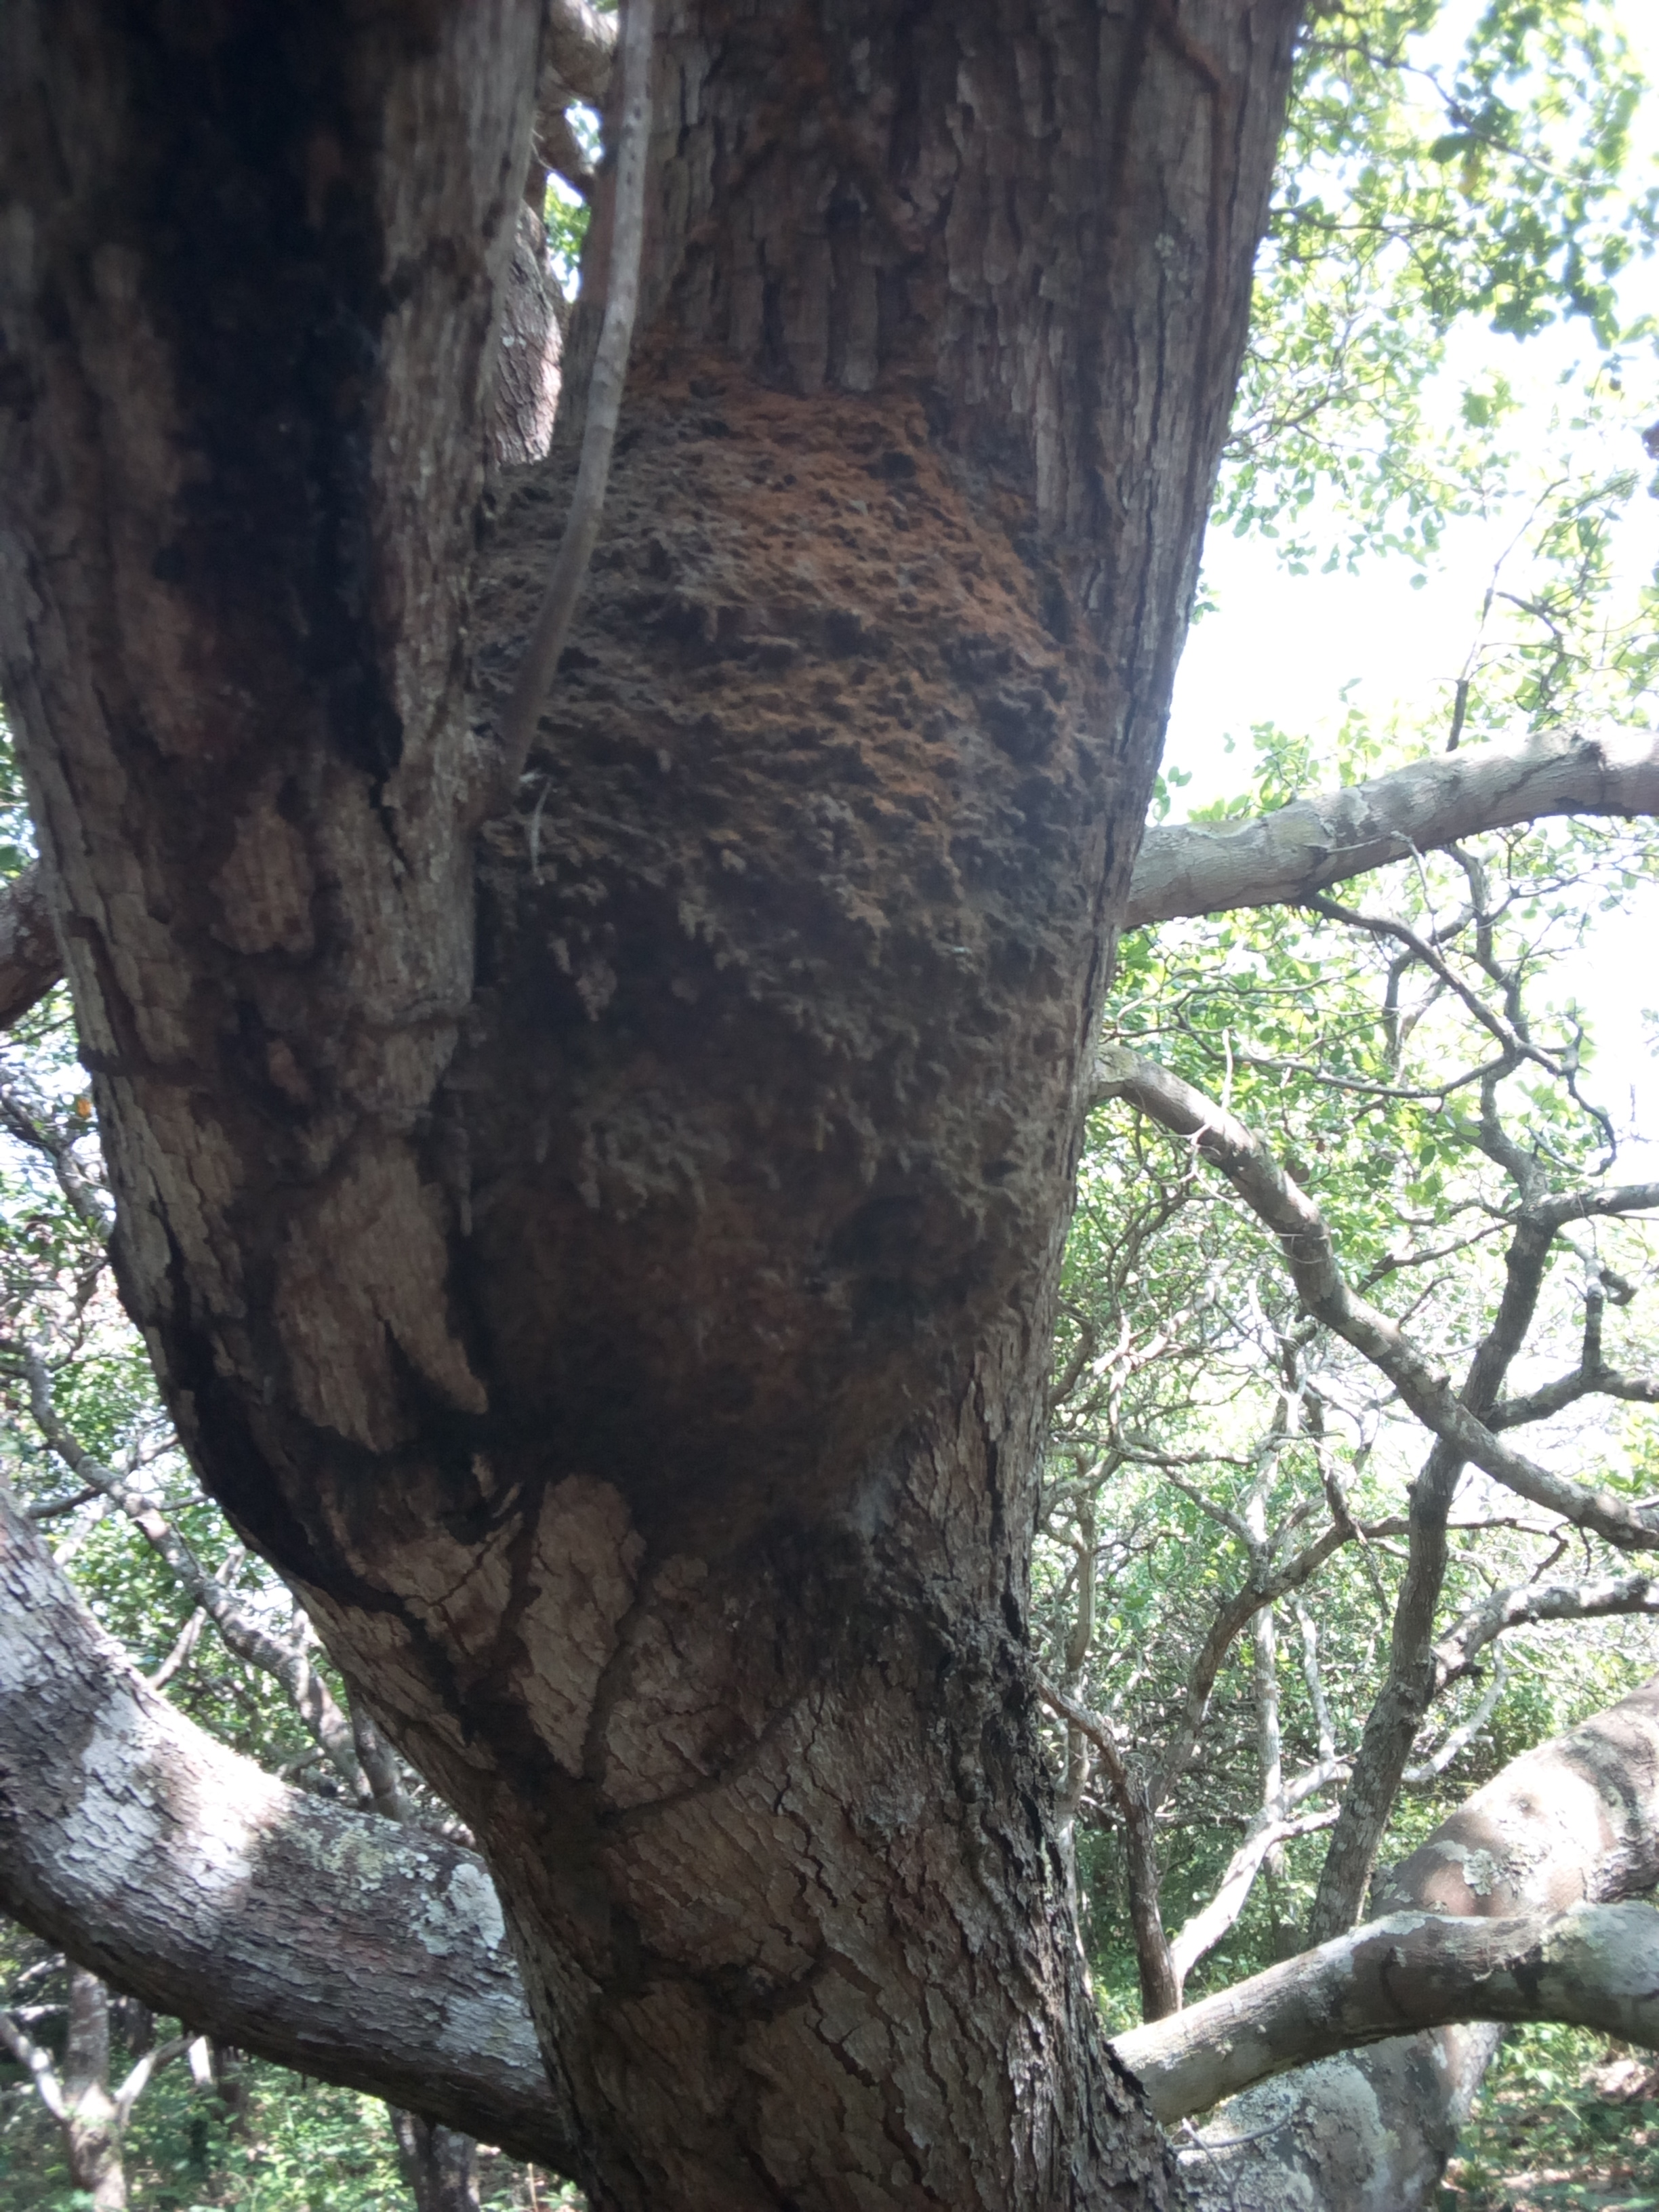Virose: (416, 289, 1134, 1543)
